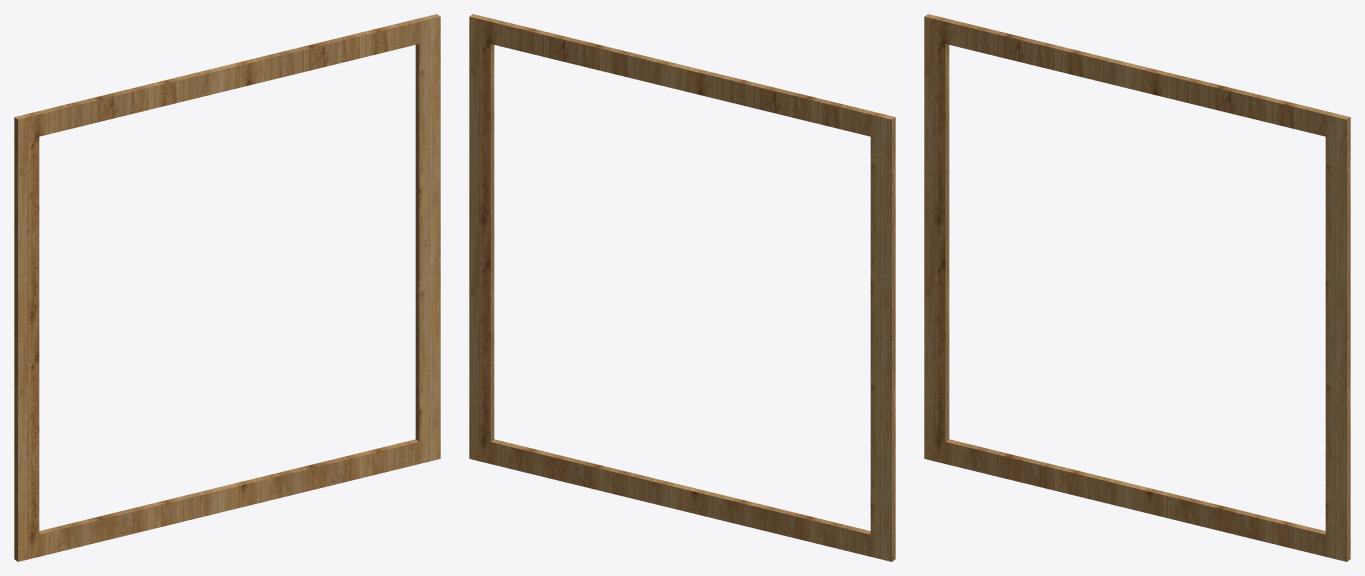
File: Window2x2.fbx
3 renders of one model, left to right at view 1: azimuth 30°, elevation 25°; view 2: azimuth 150°, elevation 25°; view 3: azimuth 330°, elevation 25°, orthographic.
Parts seen in each view (by area): view 1: Window2x2; view 2: Window2x2; view 3: Window2x2.
Boxes of the visible parts, left/top/right/bottom form: Window2x2: left=14, top=14, right=440, bottom=561; Window2x2: left=469, top=14, right=895, bottom=561; Window2x2: left=924, top=14, right=1350, bottom=561.
Size of the model in its own units: 200 by 200 by 3.
